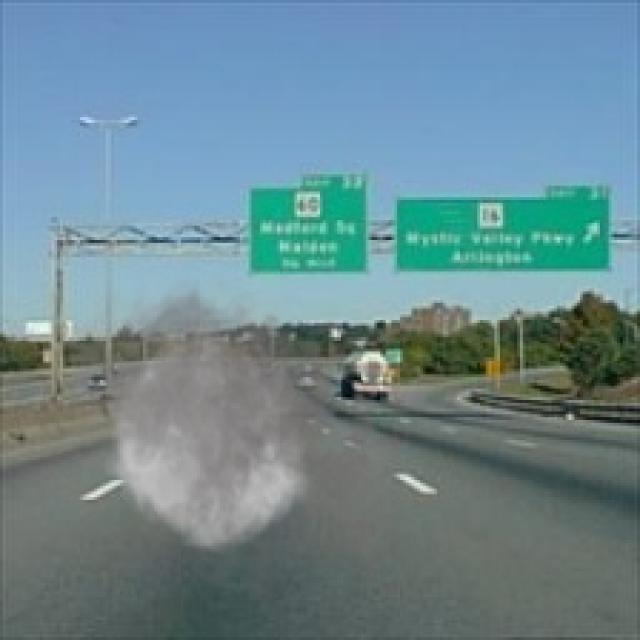smoke: (57, 268, 400, 612)
